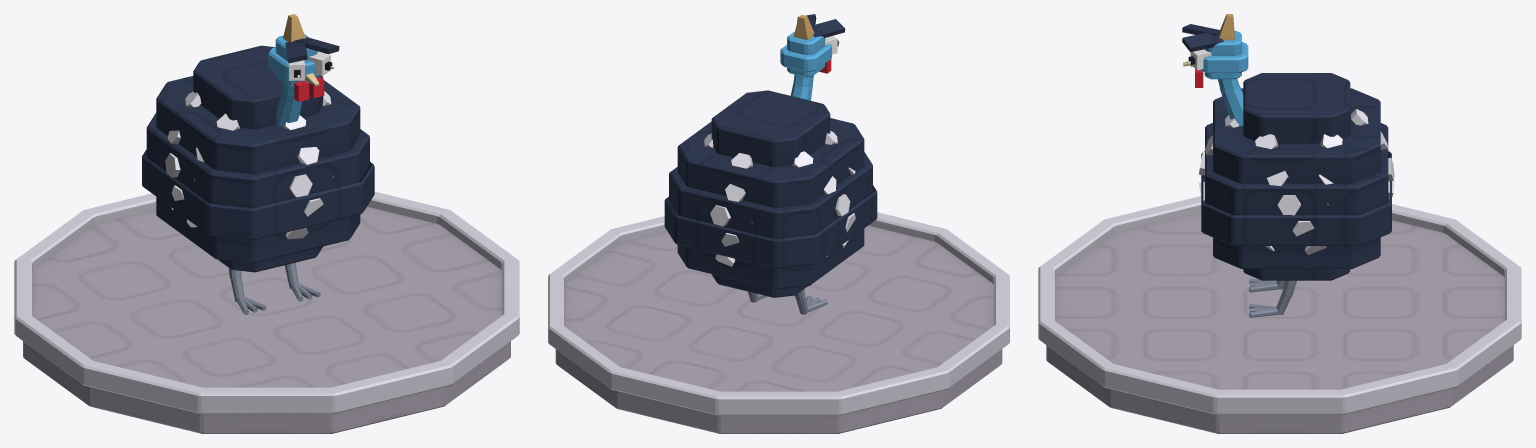
File: PearlGuineafowl.fbx
3 views of the same model, side by side, from view 1: azimuth 30°, elevation 25°; view 2: azimuth 150°, elevation 25°; view 3: azimuth 270°, elevation 25° (orthographic). The views are drawn at different scales.
Visible parts, largest first — view 1: Art_PearlGuineafowl_Stand, Art_PearlGuineafowl_Body, Art_PearlGuineafowl_Head; view 2: Art_PearlGuineafowl_Stand, Art_PearlGuineafowl_Body, Art_PearlGuineafowl_Head; view 3: Art_PearlGuineafowl_Stand, Art_PearlGuineafowl_Body, Art_PearlGuineafowl_Head.
Part boxes in pixels (x1,y1,x2,y2): Art_PearlGuineafowl_Stand: (14, 191, 519, 433); Art_PearlGuineafowl_Body: (142, 45, 374, 314); Art_PearlGuineafowl_Head: (268, 14, 339, 126); Art_PearlGuineafowl_Stand: (548, 212, 1009, 433); Art_PearlGuineafowl_Body: (664, 90, 877, 314); Art_PearlGuineafowl_Head: (780, 14, 845, 100); Art_PearlGuineafowl_Stand: (1038, 196, 1521, 433); Art_PearlGuineafowl_Body: (1199, 73, 1394, 317); Art_PearlGuineafowl_Head: (1182, 14, 1248, 126).
Size of the model in its own units: 2.9 by 2.12 by 2.9.
